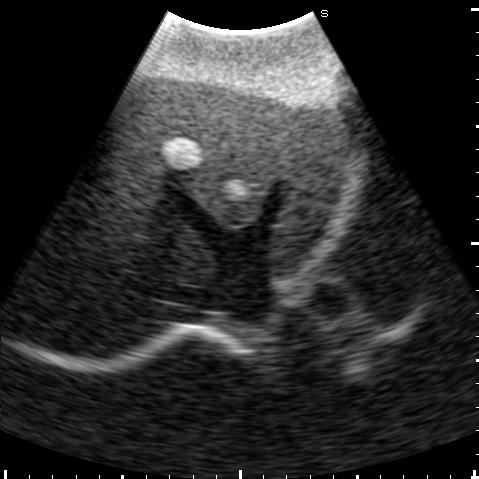S2: (272, 107, 347, 276)
S4: (112, 77, 289, 226)
S7: (24, 239, 153, 355)
S8: (70, 148, 213, 286)
Tumor: (161, 135, 199, 169), (223, 180, 245, 202)
